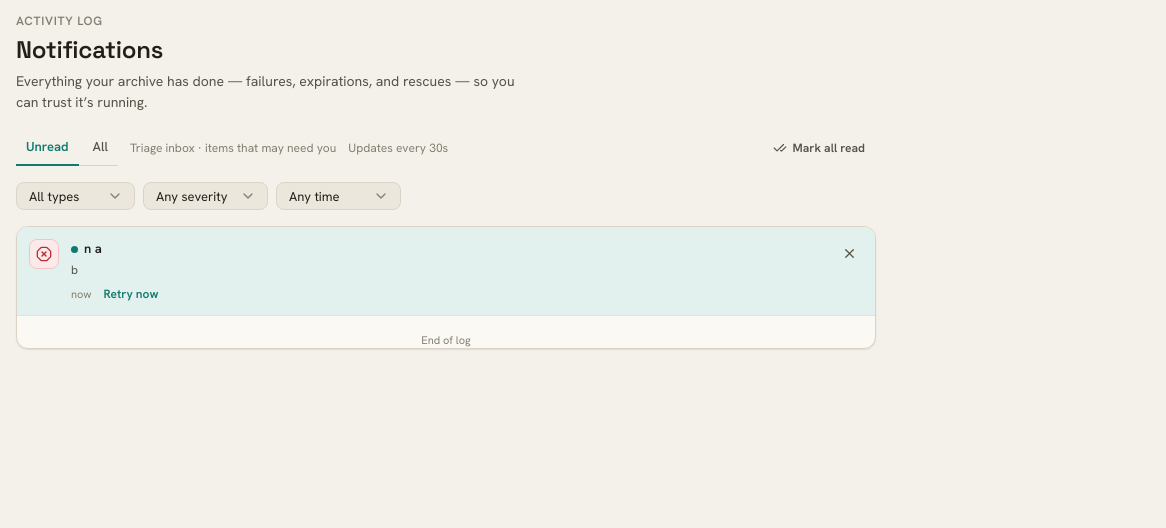
deferred-commit dismiss › Undo cancels the pending POST and restores the row
Step 1. Click the button named "Dismiss" → (849, 253), box [835,239,863,267]
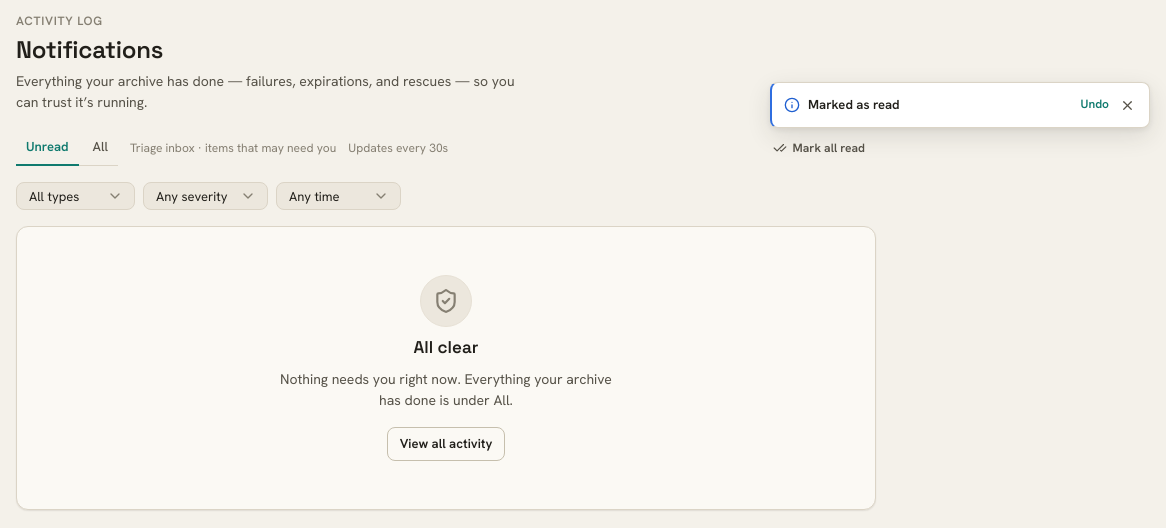
expect the text "n a" is gone: met
Step 2. Click the button "Undo" → (1095, 104), box [1081,95,1109,113]
Wait 6000 ms
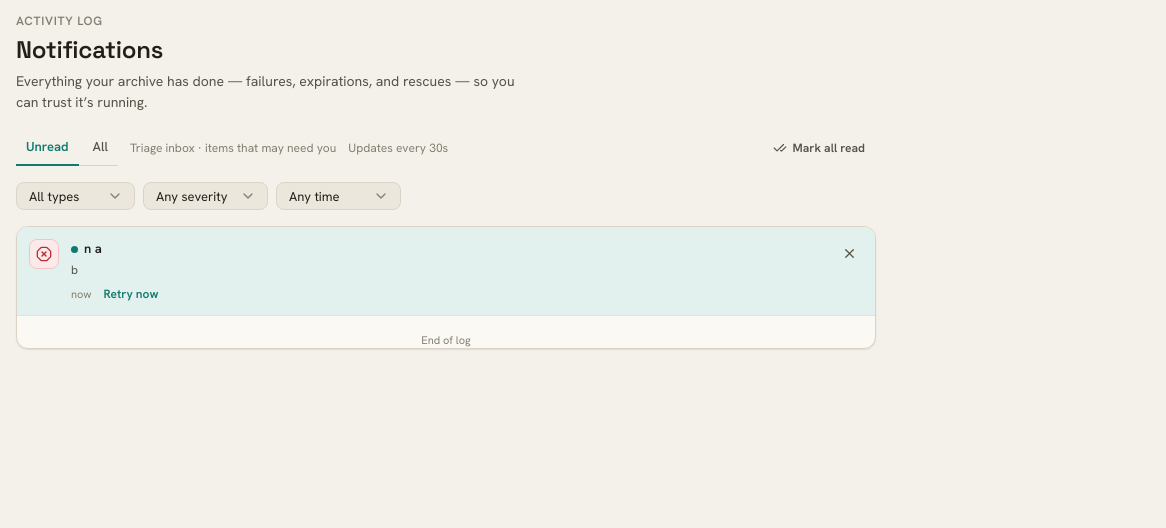
expect the text "n a" is shown: met, box [84,239,102,259]
